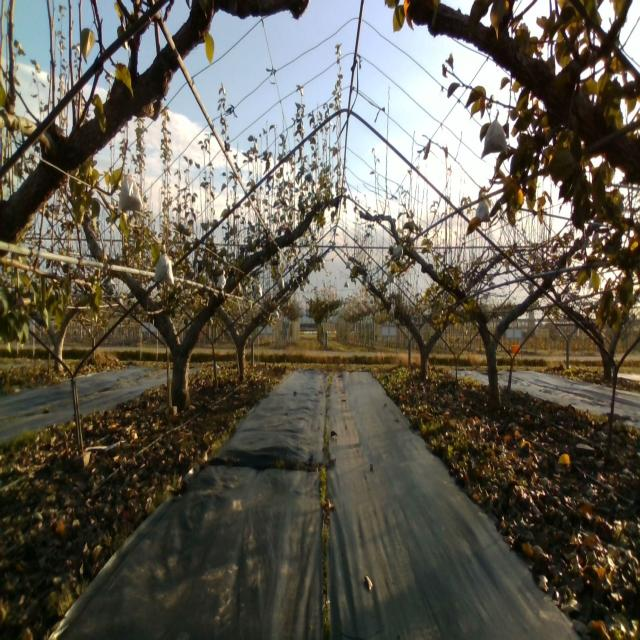pearbags: (480, 109, 510, 159), (117, 174, 144, 216), (154, 244, 174, 286), (472, 201, 490, 221)
